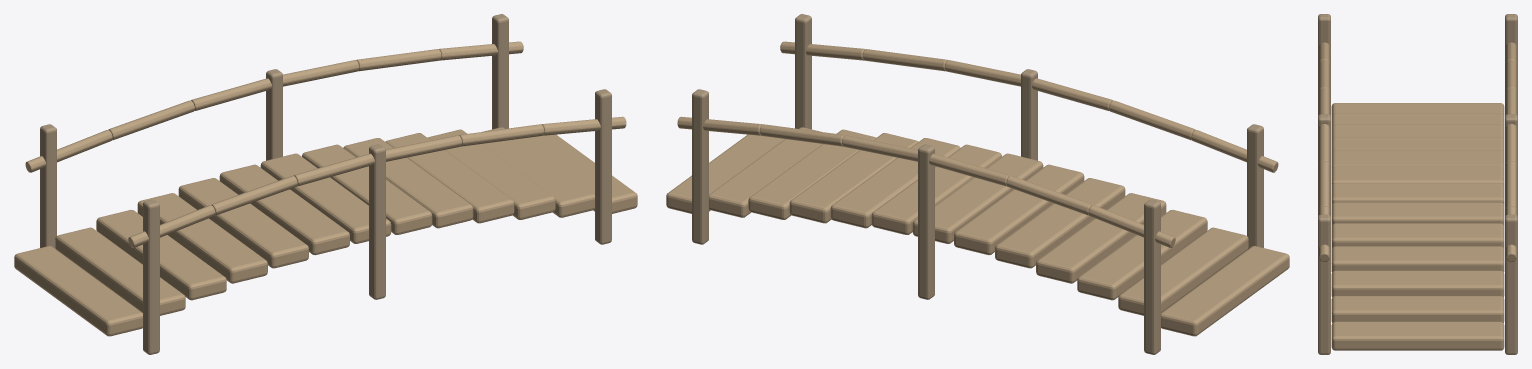
File: SM_Bridge_UV10000.fbx
3 views of the same model, side by side, from view 1: azimuth 30°, elevation 25°; view 2: azimuth 150°, elevation 25°; view 3: azimuth 270°, elevation 25° (orthographic). The views are drawn at different scales.
Parts seen in each view (by area): view 1: SM_Bridge_UV10000; view 2: SM_Bridge_UV10000; view 3: SM_Bridge_UV10000.
Boxes of the visible parts, x1,y1,x2,y2 form: SM_Bridge_UV10000: [14, 14, 637, 354]; SM_Bridge_UV10000: [666, 14, 1289, 354]; SM_Bridge_UV10000: [1318, 14, 1517, 354].
Size of the model in its own units: 776 by 278 by 210.
